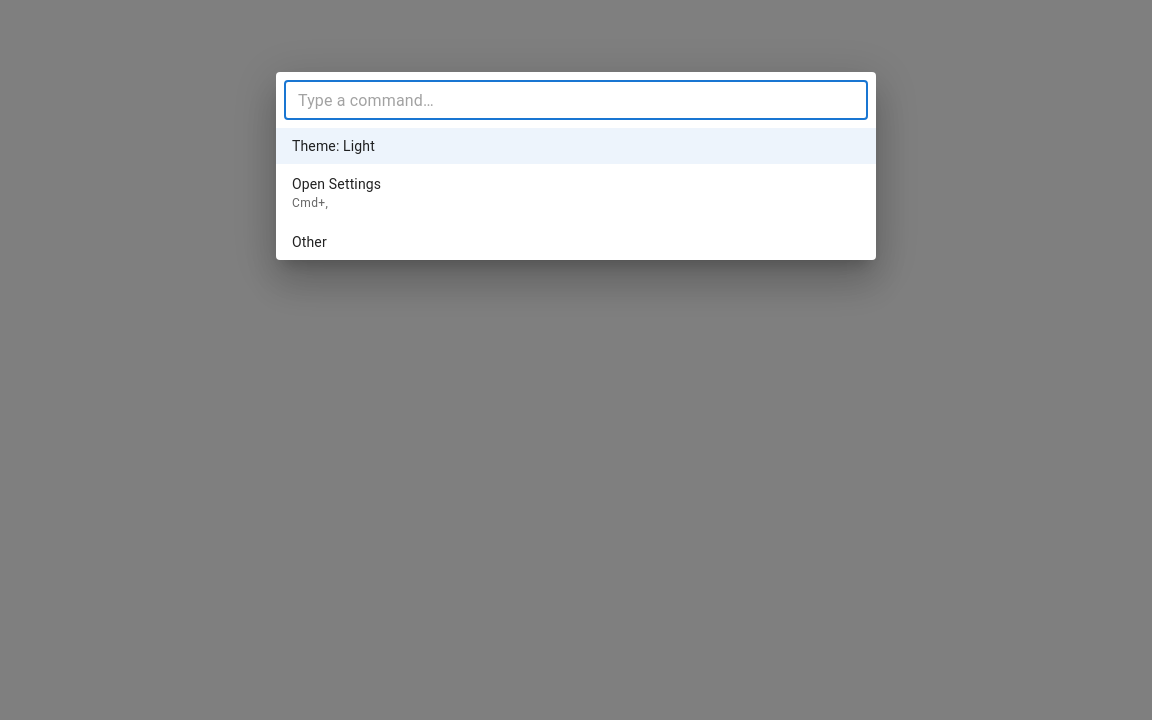
Test case: CommandPalette › filters by case-insensitive substring across label / hint / keywords
Type "MATCHME" into the dropdown at (576,100), box [284,80,868,120]
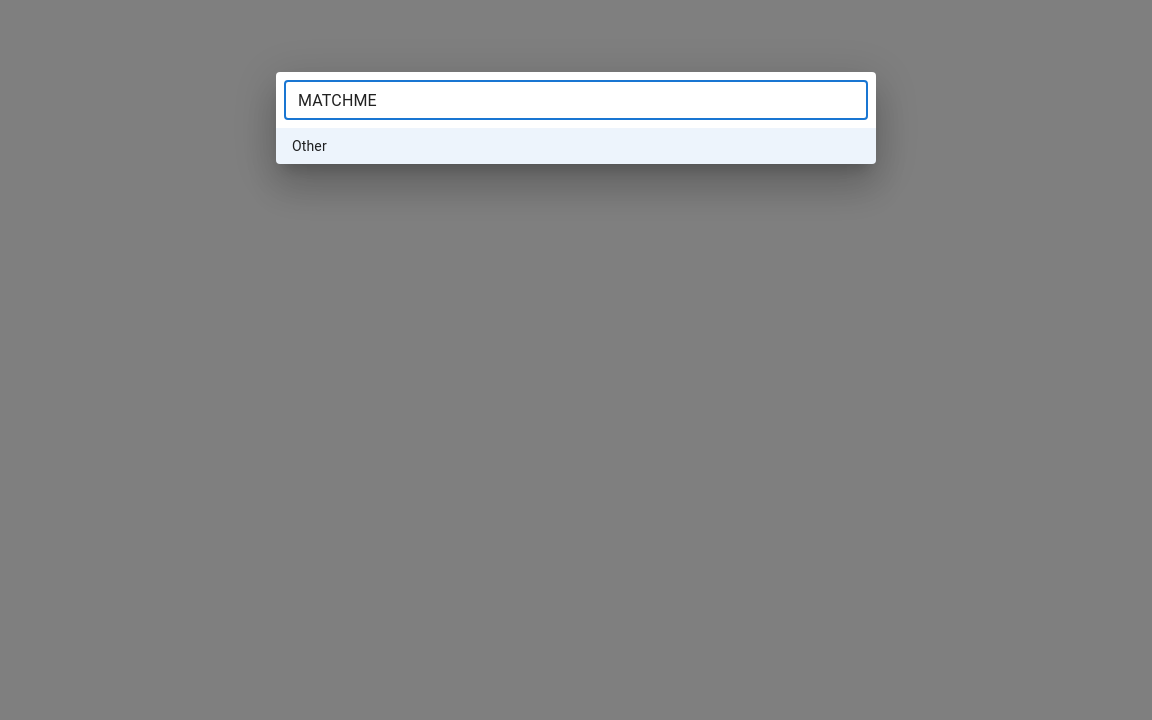
Expected: the text "Other" is shown, [292,138,327,154]
Result: the option "Theme: Light" is gone
